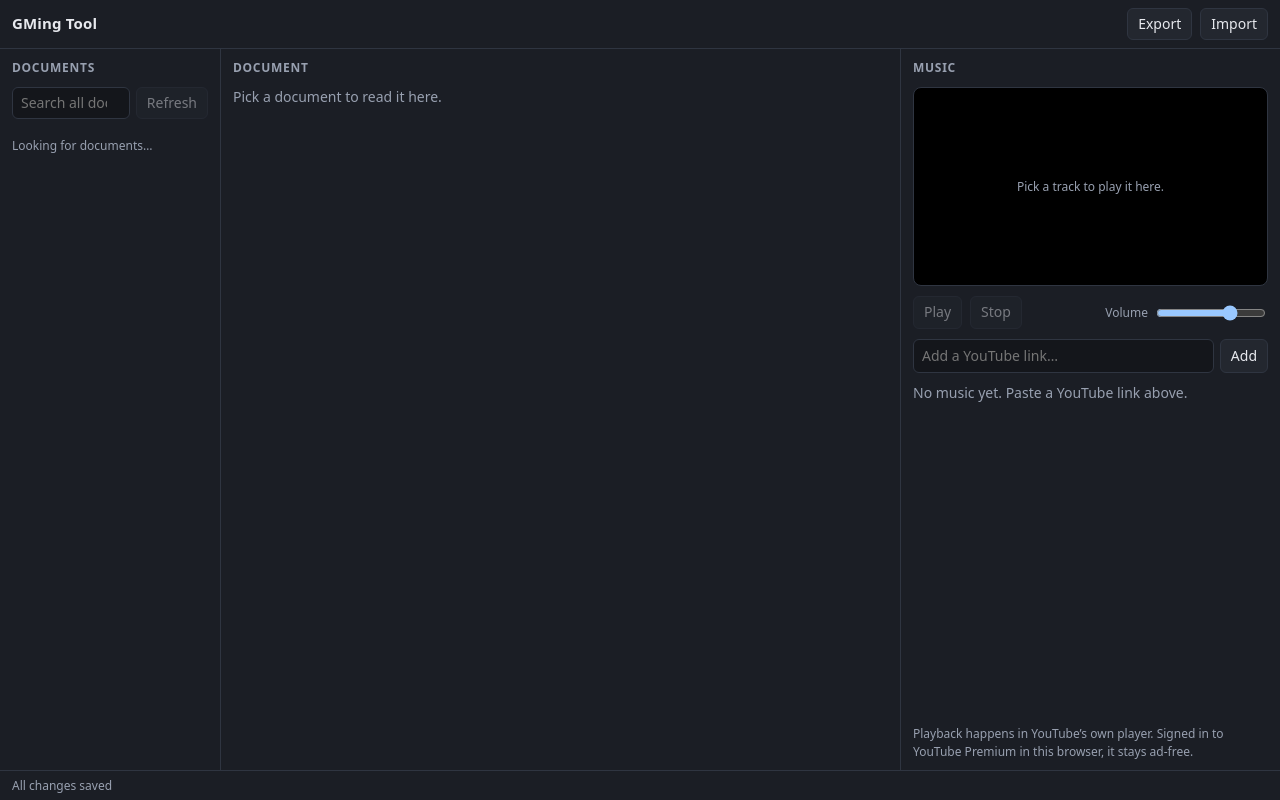
Test: the GMing tool › adds a link and plays it
This screenshot has width=1280, height=800.
Expected: the button "dQw4w9WgXcQ" is not shown
Type "https://youtu.be/dQw4w9WgXcQ" into the field labelled "YouTube link" at [1063, 356], box [913,339,1214,373]
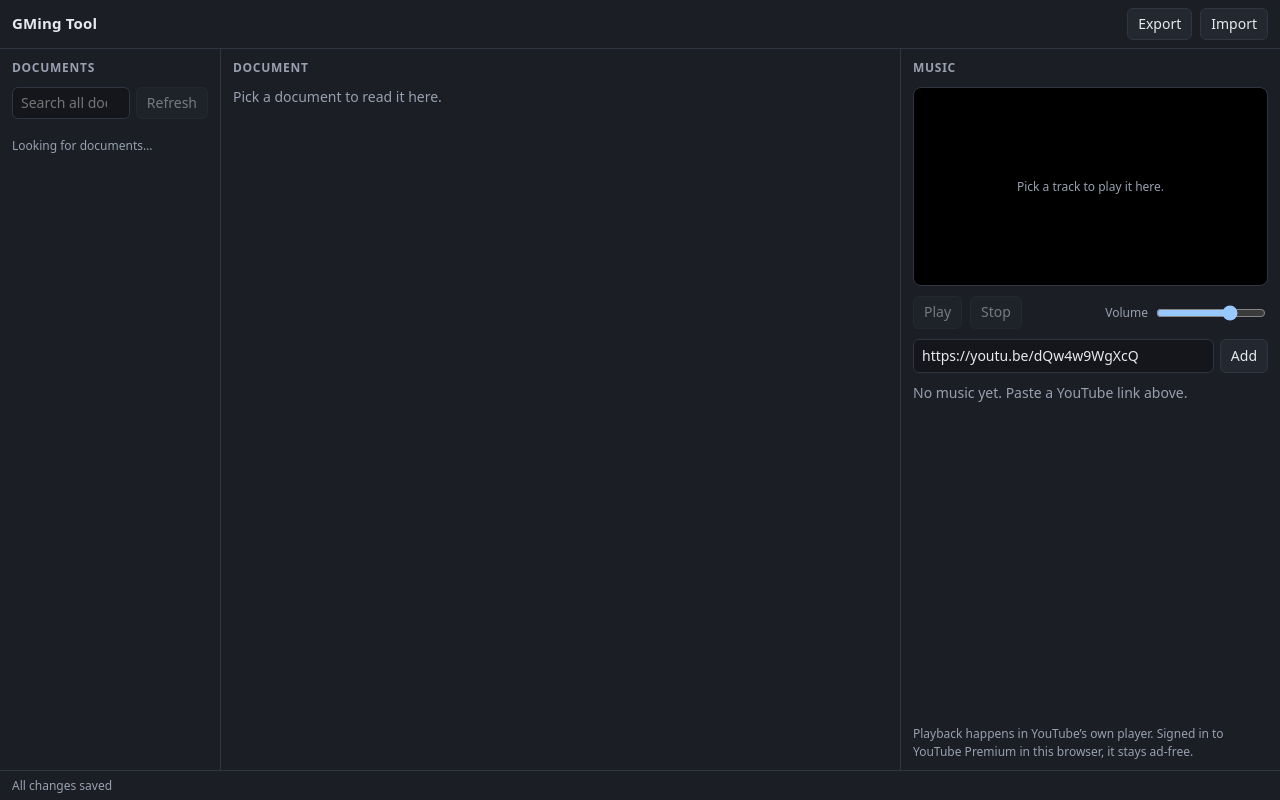
Click the button "Add" at [1244, 356], box [1220,339,1268,373]
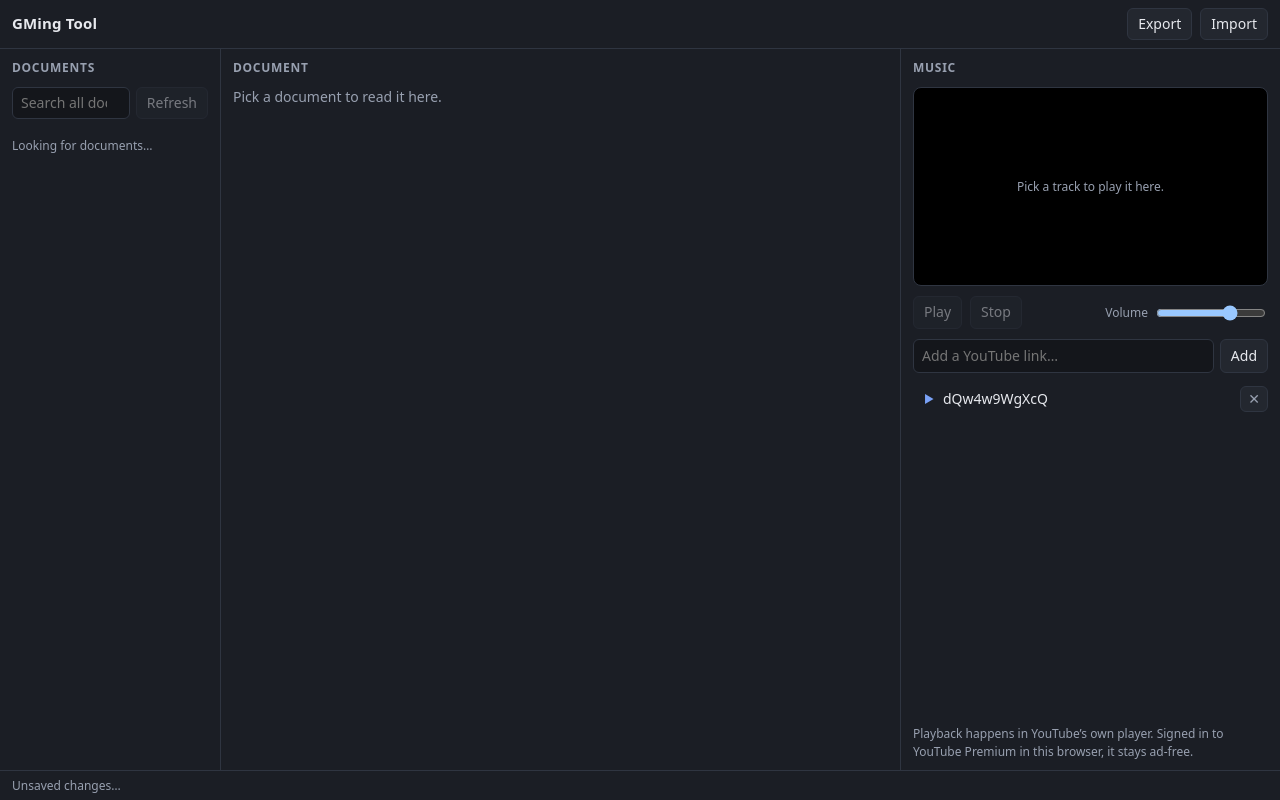
Click the button "▶ dQw4w9WgXcQ" at [995, 398], box [913,383,1236,415]
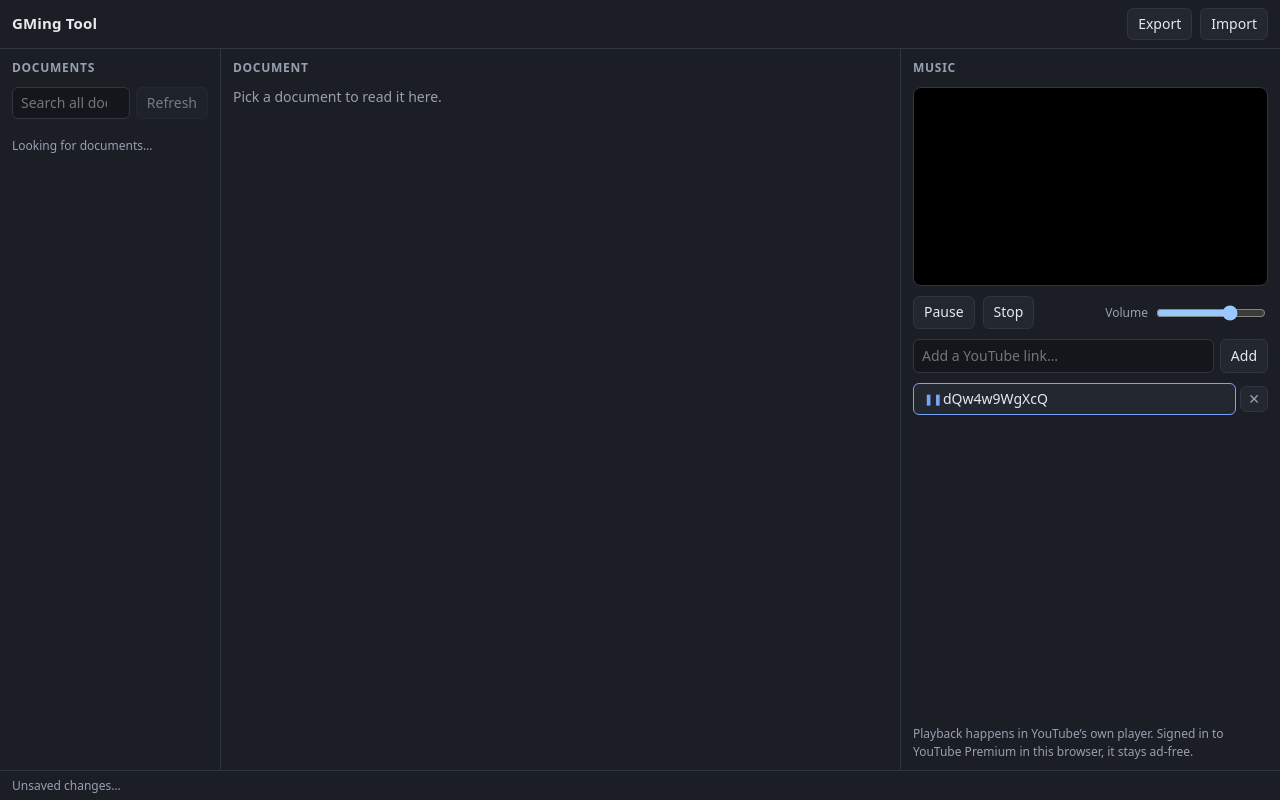
Result: the button "Pause" is shown at [913,296,975,329]
